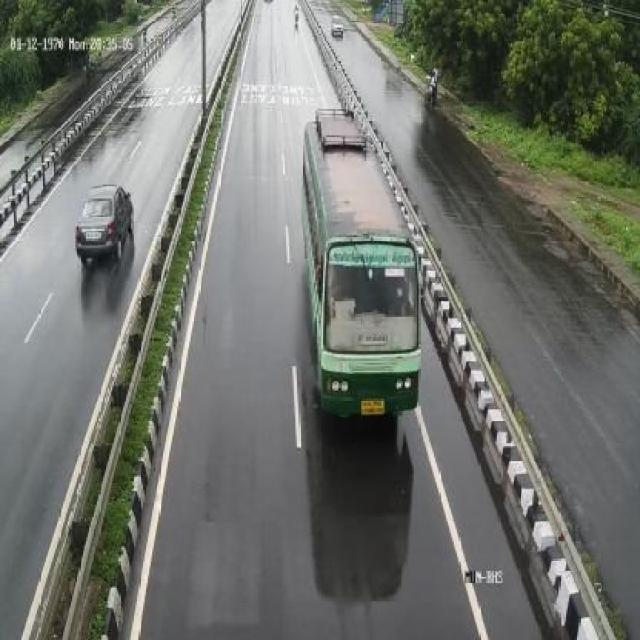car: (74, 183, 135, 274)
